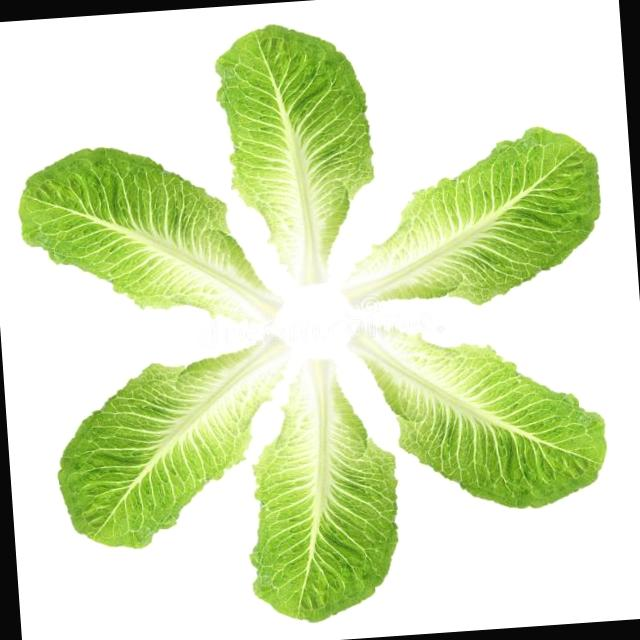Lettuce-Ready-to-Harvest: (54, 336, 295, 550), (16, 146, 284, 328), (336, 127, 599, 309), (348, 326, 608, 510), (214, 25, 374, 278), (247, 360, 399, 624)
